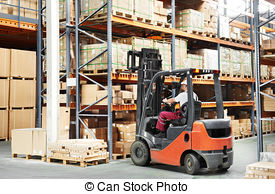box: (180, 4, 213, 36), (12, 81, 39, 111), (10, 132, 49, 151), (10, 50, 34, 80), (219, 49, 251, 63)
pallet: (49, 158, 111, 165), (11, 153, 46, 159)
